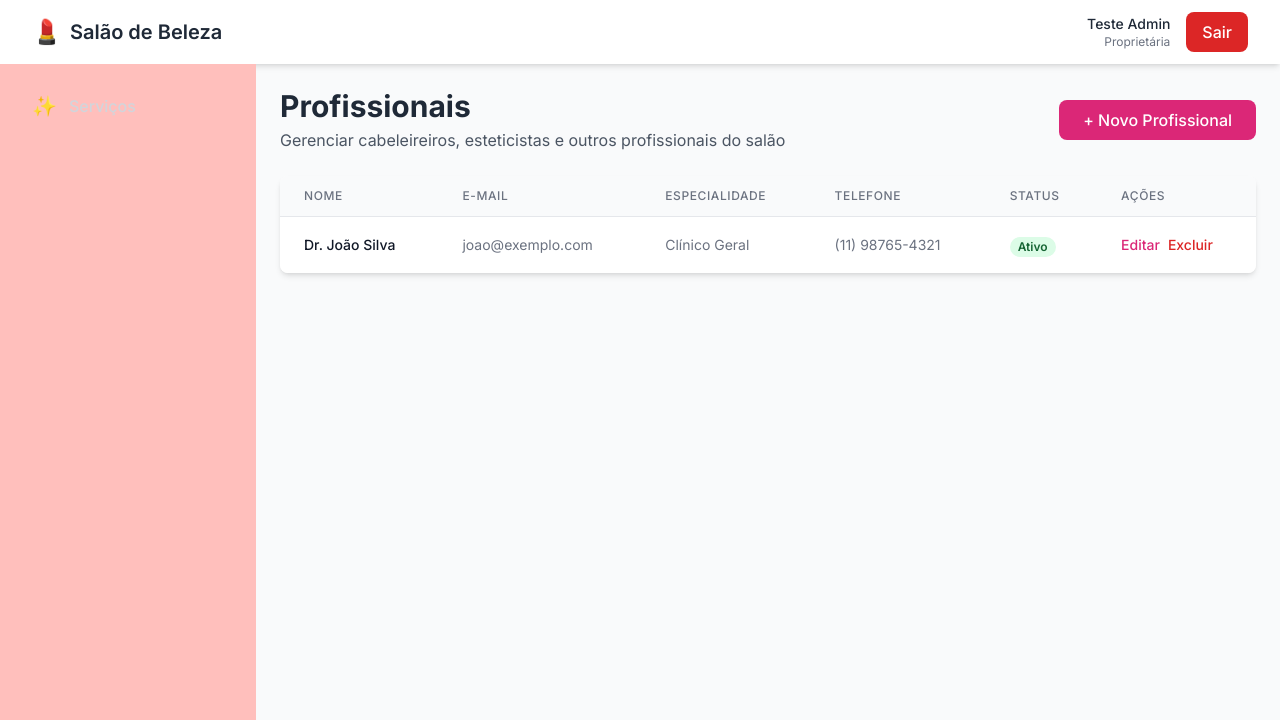
Test: Professionals Component › deve abrir modal ao clicar em novo profissional
Click the button "+ Novo Profissional": (1158, 120) x1=1059 y1=100 x2=1256 y2=140
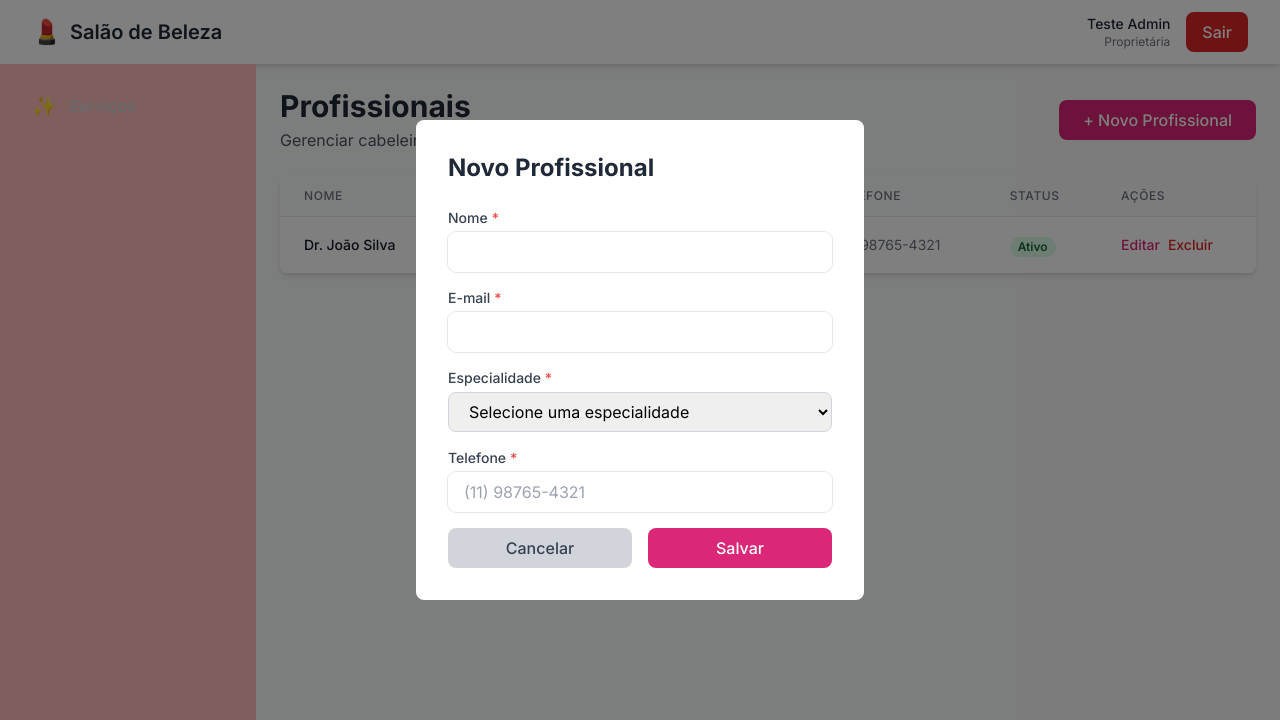
Expected: the heading "Novo Profissional" is shown, x1=448 y1=153 x2=654 y2=182
